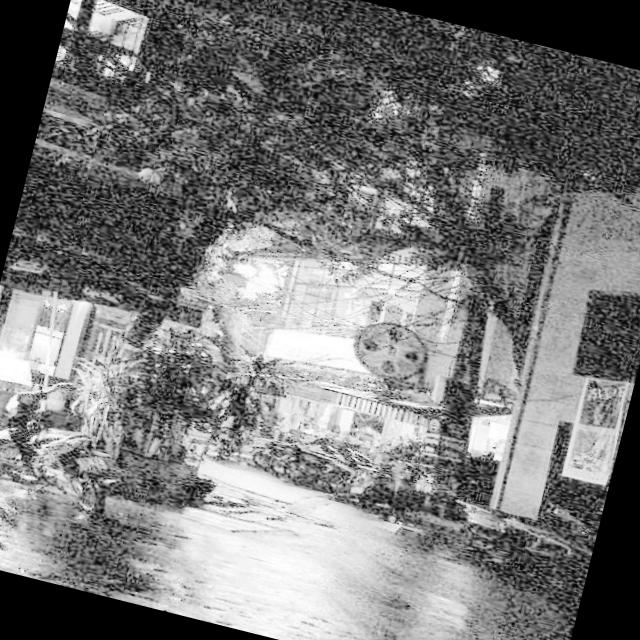Motorcycle: (220, 389, 433, 564), (0, 359, 119, 550)
